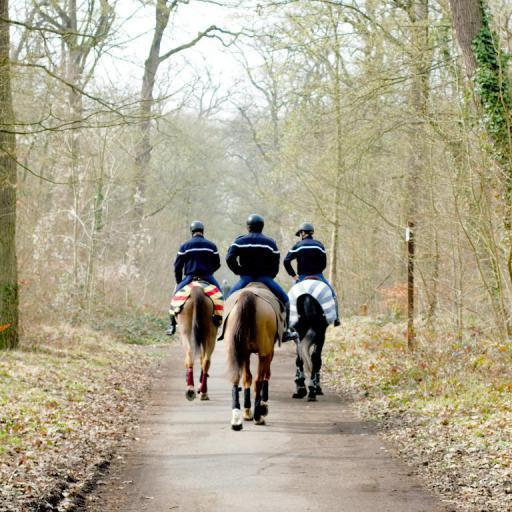horse: (222, 280, 282, 432), (168, 278, 224, 400), (286, 278, 339, 404)
